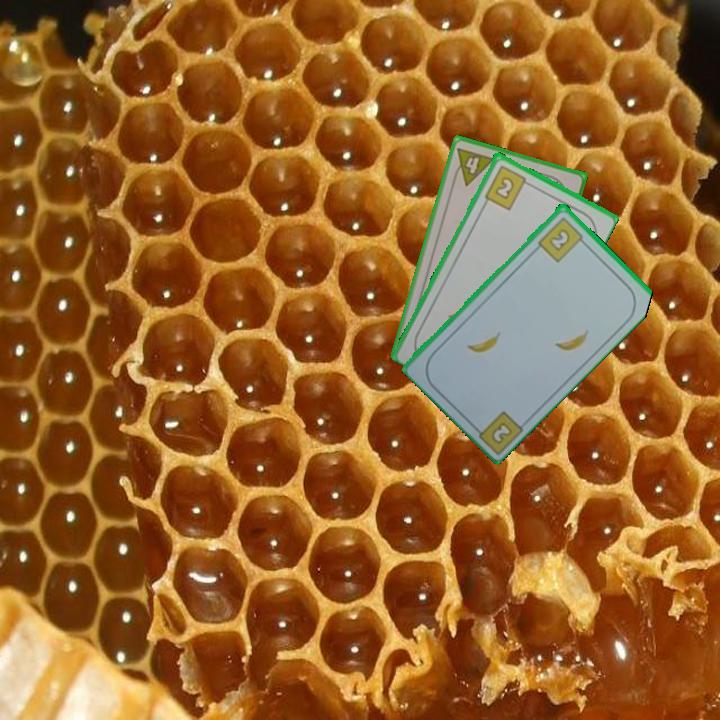2b: (534, 213, 589, 265), (468, 407, 526, 455), (481, 161, 534, 212)
4p: (448, 144, 498, 188)
